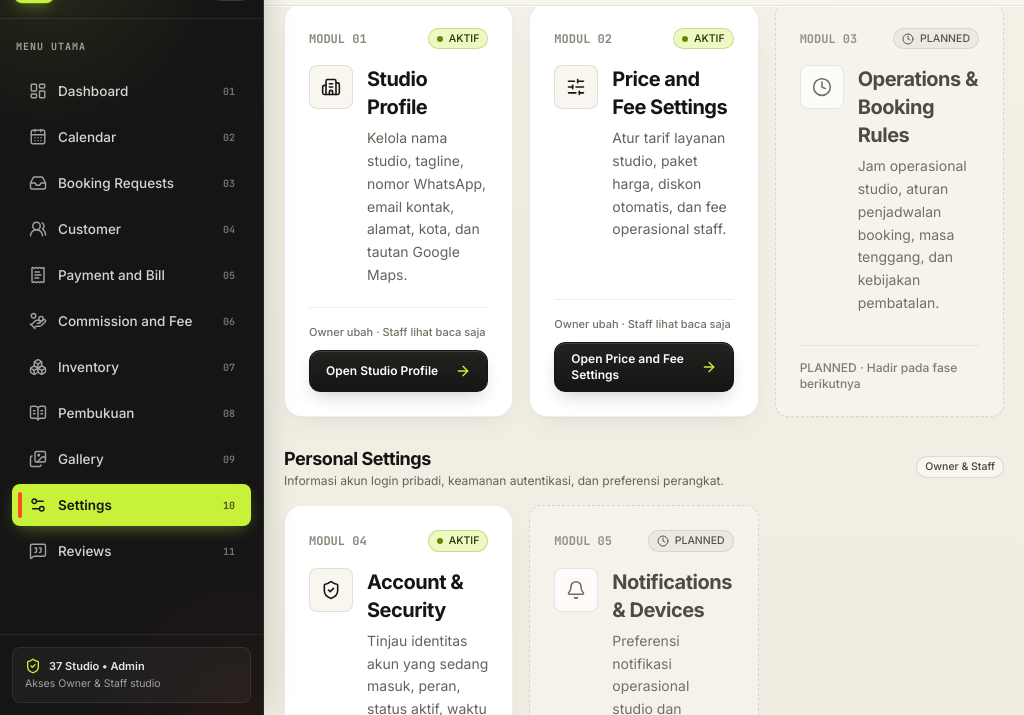
Settings Center Overview (/admin/settings) › navigates between /admin/settings and sub-pages inside AppRoutes while keeping 11 Owner sidebar links
(page scrolled)
Click the link "Open Studio Profile". click: (399, 371)
box: x1=309 y1=350 x2=488 y2=392
(page scrolled)
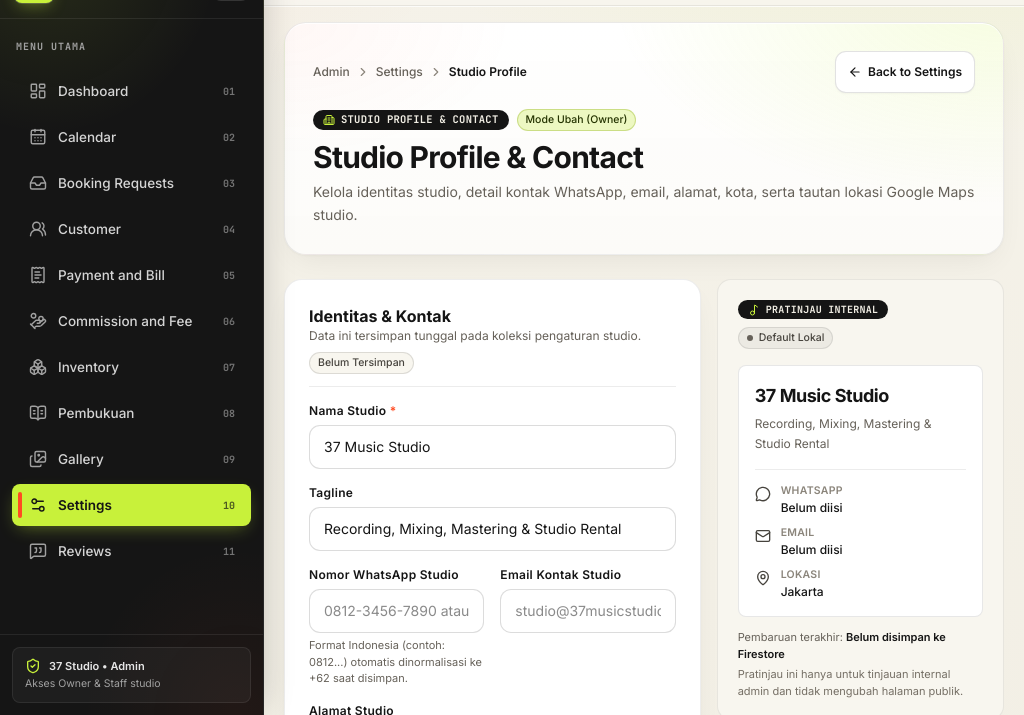
Result: the heading "Studio Profile & Contact" is shown at x1=313 y1=139 x2=643 y2=175
Click the button "Back to Settings". click: (905, 72)
box: x1=835 y1=51 x2=975 y2=93
(page scrolled)
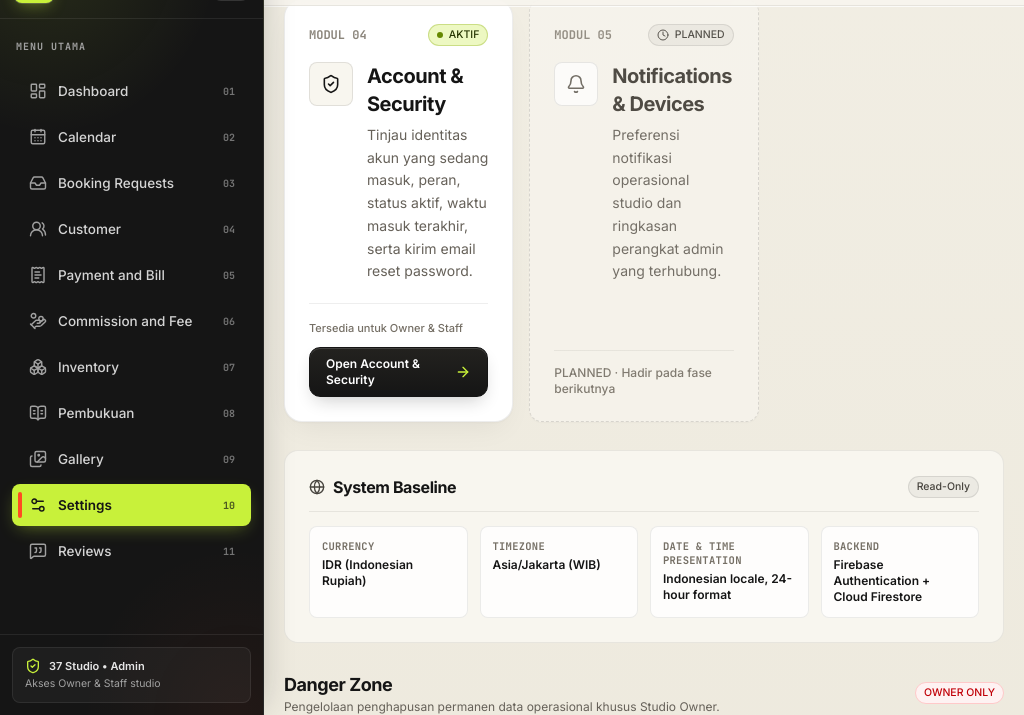
Click the link "Open Account & Security". click: (399, 372)
box: x1=309 y1=347 x2=488 y2=397
(page scrolled)
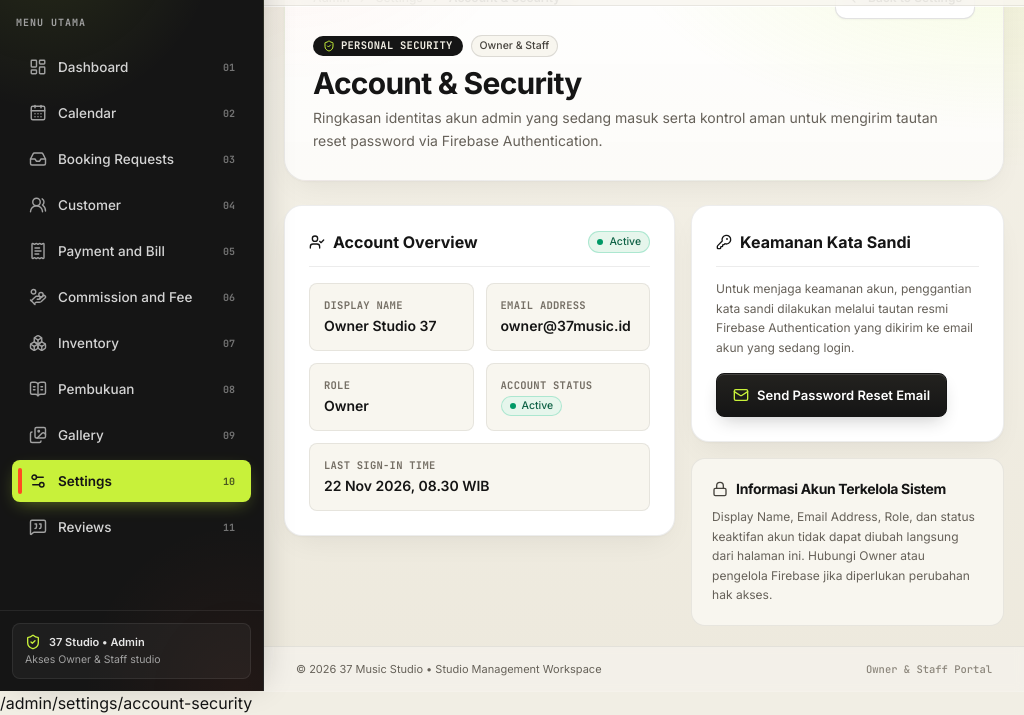
Result: the heading "Account & Security" is shown at x1=313 y1=65 x2=582 y2=101
Result: the text with test id "current-pathname" reads "/admin/settings/account-security" at x1=0 y1=693 x2=252 y2=713
